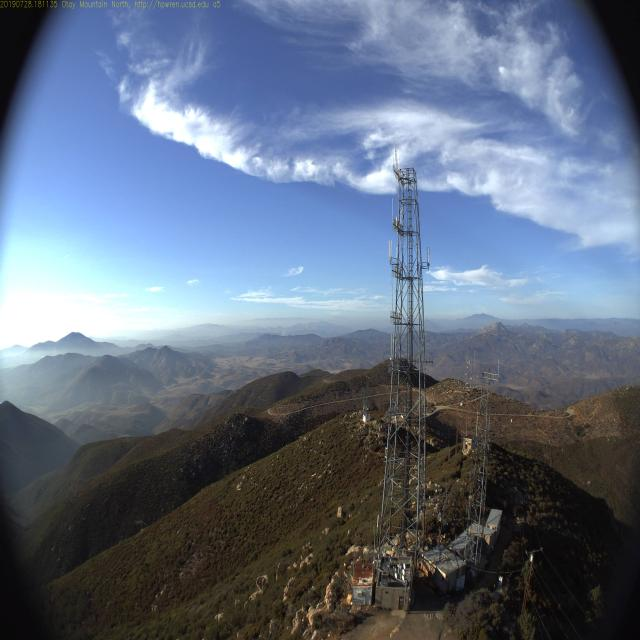smoke: (276, 324, 292, 341)
